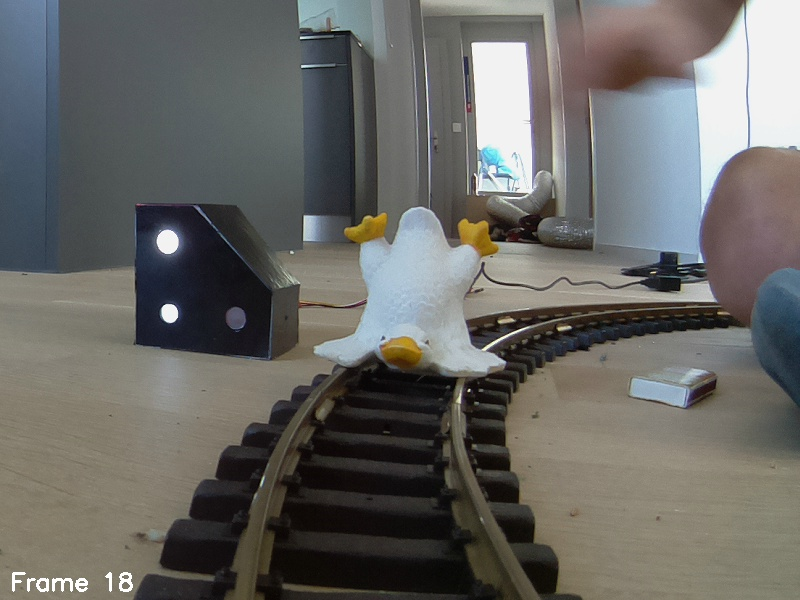Fahrt: (315, 202, 513, 389), (130, 200, 302, 370)
